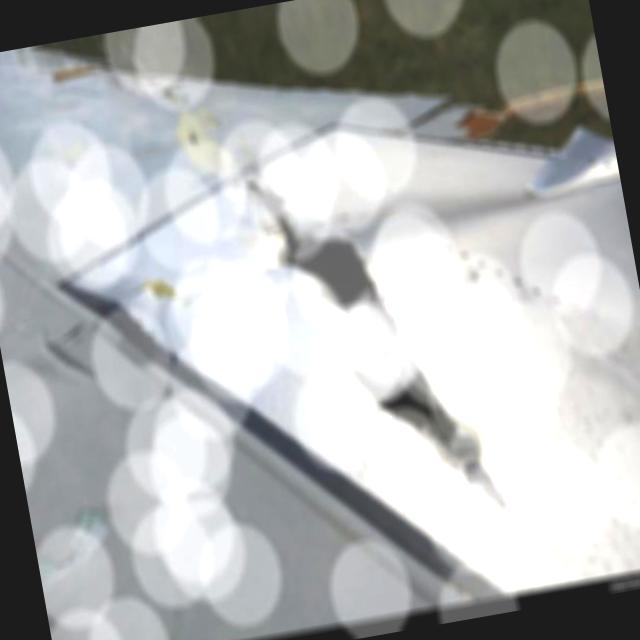crack: (39, 320, 95, 386)
